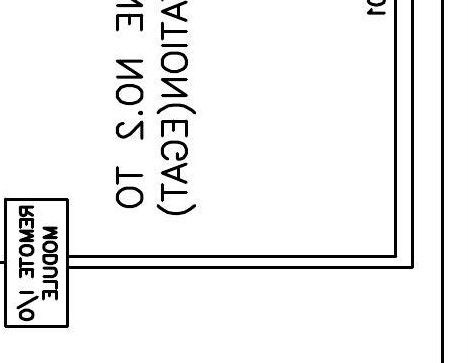remote_io_module: (4, 197, 69, 328)
